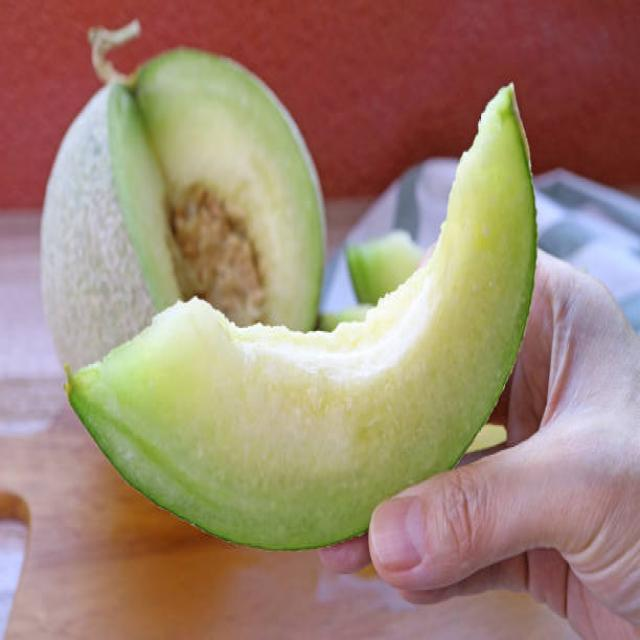Melon: (59, 292, 370, 554), (37, 42, 327, 296)
